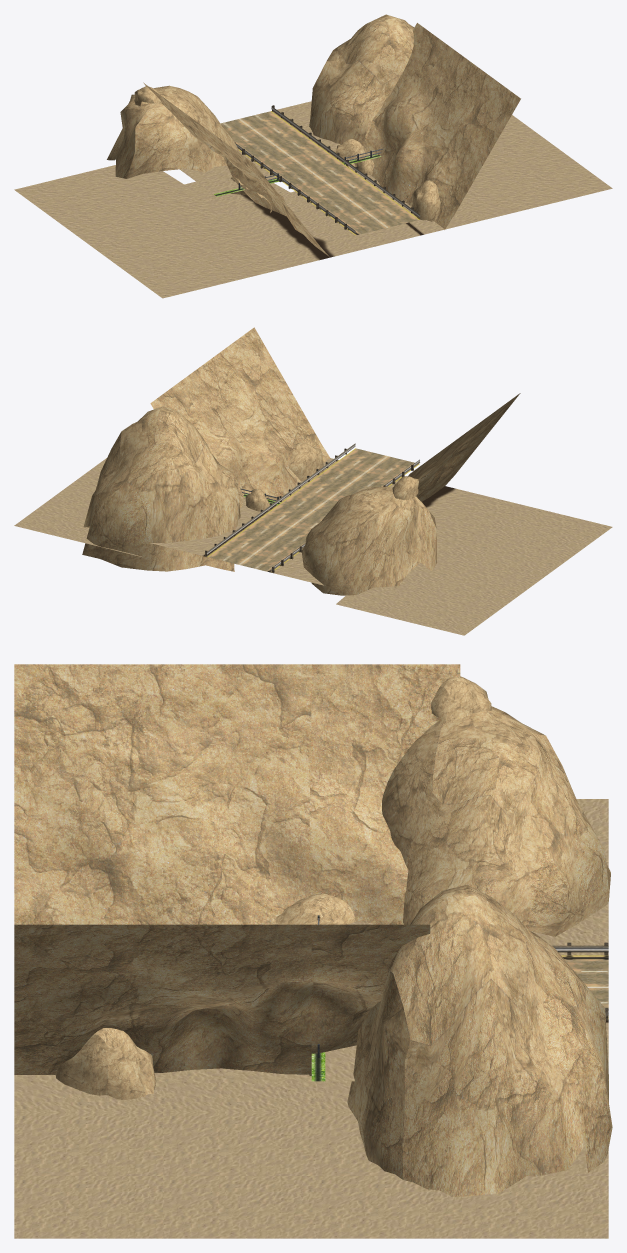
Rendered from scene6_start.FBX.
3 views of the same model, one above another, from view 1: azimuth 30°, elevation 25°; view 2: azimuth 150°, elevation 25°; view 3: azimuth 270°, elevation 25° (orthographic). The views are drawn at different scales.
Visible parts, largest first — view 1: wall002, scene6_end, road015, scene007, boundry005; view 2: wall002, scene6_end, road015, scene007; view 3: wall002, scene6_end, scene007, road015.
Boxes of the visible parts, x1,y1,x2,y2 form: wall002: (107, 14, 520, 256); scene6_end: (14, 115, 612, 298); road015: (220, 105, 420, 235); scene007: (180, 101, 380, 195); boundry005: (214, 147, 383, 196); wall002: (82, 327, 520, 595); scene6_end: (14, 458, 612, 635); road015: (205, 443, 419, 572); scene007: (150, 497, 323, 585); wall002: (14, 664, 612, 1196); scene6_end: (14, 799, 608, 1238); scene007: (325, 903, 608, 1081); road015: (552, 942, 608, 1020).
Size of the model in its own units: 140 by 40.6 by 80.52.
